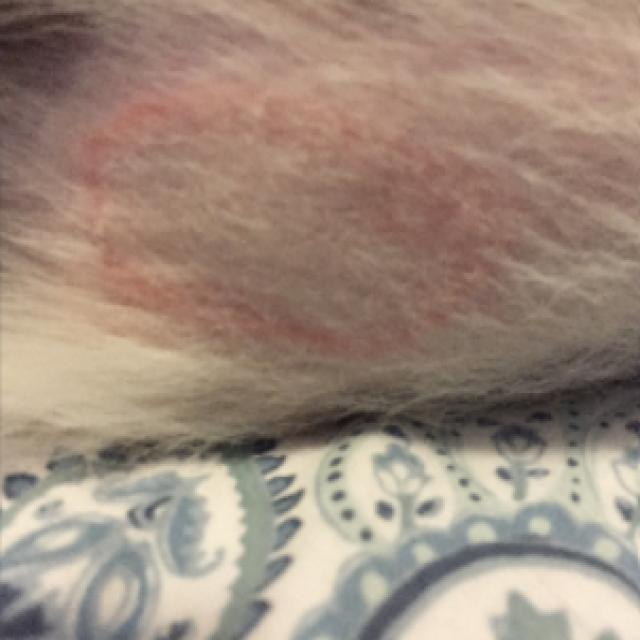hac lao: (40, 63, 579, 405)
